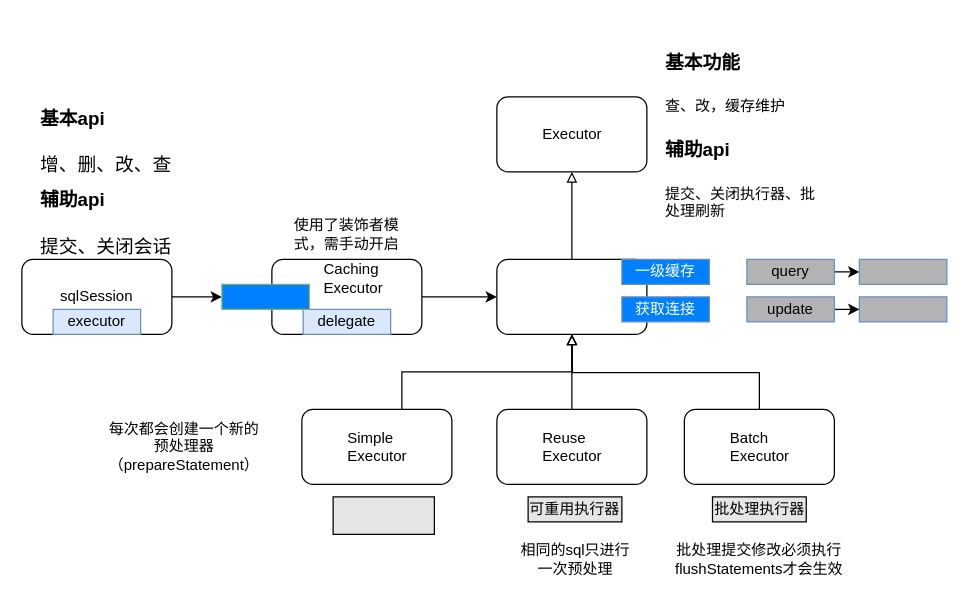
The diagram is 969 pixels wide and 599 high, and some of its shapes have lost their labels. The centre of each missing label's shape, as x and y in pixels:
Base Executor: pixel 571 296
doQuery: pixel 902 271
doUpdate: pixel 902 309
二级缓存: pixel 265 296
简单执行器（默认）: pixel 383 515
